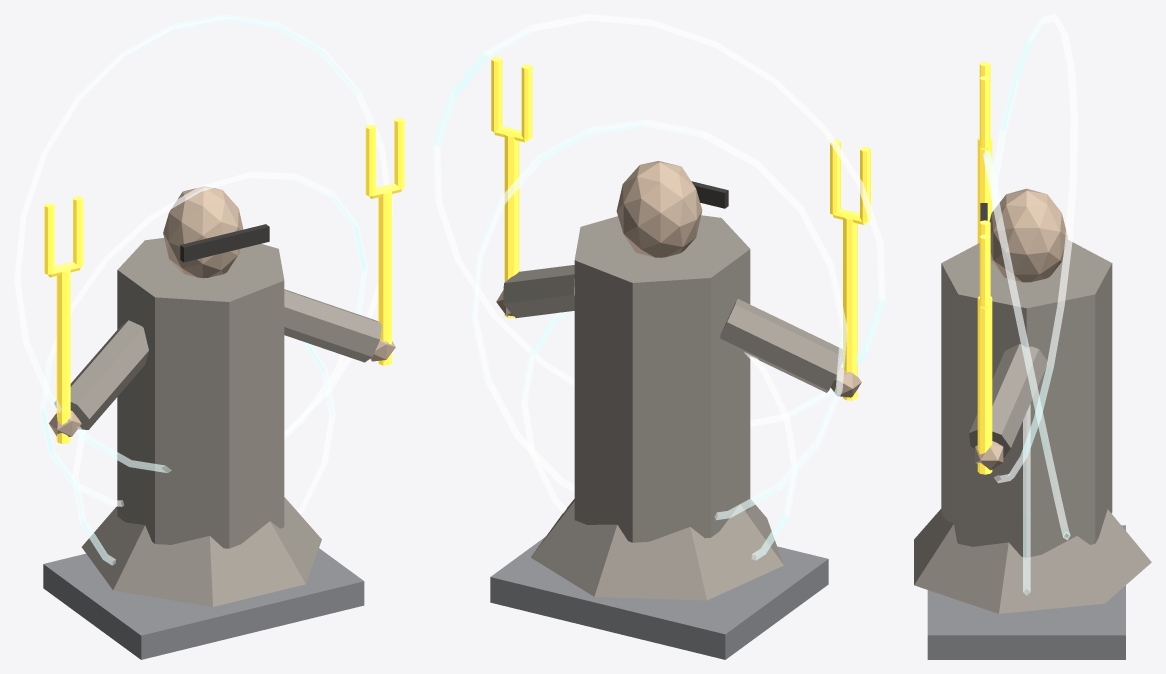
File: chord_weaver.glb
3 views of the same model, side by side, from view 1: azimuth 30°, elevation 25°; view 2: azimuth 150°, elevation 25°; view 3: azimuth 270°, elevation 25° (orthographic). The views are drawn at different scales.
Visible parts, largest first — view 1: weaver_hover_robed_body, resonant_peak_stone_plinth, weaver_tapered_robe_lower, weaver_soundwave_ring_high, weaver_soundwave_ring_mid, weaver_bald_head, weaver_left_sleeve, weaver_right_sleeve, left_tuning_fork_handle, weaver_soundwave_ring_low, right_tuning_fork_handle, weaver_black_blindfold (+4 smaller); view 2: weaver_hover_robed_body, resonant_peak_stone_plinth, weaver_tapered_robe_lower, weaver_soundwave_ring_mid, weaver_soundwave_ring_high, weaver_bald_head, weaver_left_sleeve, weaver_soundwave_ring_low, weaver_right_sleeve, left_tuning_fork_handle, right_tuning_fork_handle, right_tuning_fork_tine_a (+4 smaller); view 3: weaver_hover_robed_body, weaver_tapered_robe_lower, resonant_peak_stone_plinth, weaver_bald_head, weaver_soundwave_ring_high, weaver_right_sleeve, weaver_soundwave_ring_mid, right_tuning_fork_handle, weaver_soundwave_ring_low, left_tuning_fork_handle, right_tuning_fork_tine_b, left_tuning_fork_tine_b (+1 smaller).
Part boxes in pixels (bbox=[...]): weaver_hover_robed_body: bbox=[117, 238, 284, 548]; resonant_peak_stone_plinth: bbox=[43, 548, 364, 659]; weaver_tapered_robe_lower: bbox=[81, 497, 321, 606]; weaver_soundwave_ring_high: bbox=[14, 14, 393, 472]; weaver_soundwave_ring_mid: bbox=[40, 171, 367, 506]; weaver_bald_head: bbox=[163, 186, 243, 278]; weaver_left_sleeve: bbox=[54, 320, 148, 429]; weaver_right_sleeve: bbox=[284, 289, 381, 362]; left_tuning_fork_handle: bbox=[56, 270, 70, 443]; weaver_soundwave_ring_low: bbox=[72, 341, 335, 565]; right_tuning_fork_handle: bbox=[378, 191, 391, 365]; weaver_black_blindfold: bbox=[180, 224, 269, 262]; weaver_hover_robed_body: bbox=[574, 215, 750, 542]; resonant_peak_stone_plinth: bbox=[490, 536, 828, 659]; weaver_tapered_robe_lower: bbox=[531, 499, 783, 600]; weaver_soundwave_ring_mid: bbox=[471, 119, 847, 520]; weaver_soundwave_ring_high: bbox=[433, 14, 885, 426]; weaver_bald_head: bbox=[616, 161, 702, 257]; weaver_left_sleeve: bbox=[720, 299, 844, 392]; weaver_soundwave_ring_low: bbox=[520, 311, 797, 560]; weaver_right_sleeve: bbox=[503, 265, 574, 318]; left_tuning_fork_handle: bbox=[843, 217, 857, 400]; right_tuning_fork_handle: bbox=[504, 135, 519, 317]; right_tuning_fork_tine_a: bbox=[521, 64, 532, 139]; weaver_hover_robed_body: bbox=[941, 240, 1112, 557]; weaver_tapered_robe_lower: bbox=[914, 509, 1151, 613]; resonant_peak_stone_plinth: bbox=[927, 525, 1125, 659]; weaver_bald_head: bbox=[989, 188, 1067, 282]; weaver_soundwave_ring_high: bbox=[992, 14, 1077, 483]; weaver_right_sleeve: bbox=[969, 343, 1047, 457]; weaver_soundwave_ring_mid: bbox=[983, 150, 1070, 540]; right_tuning_fork_handle: bbox=[977, 296, 992, 474]; weaver_soundwave_ring_low: bbox=[1023, 404, 1030, 595]; left_tuning_fork_handle: bbox=[977, 137, 992, 243]; right_tuning_fork_tine_b: bbox=[979, 234, 990, 306]; left_tuning_fork_tine_b: bbox=[979, 76, 990, 148].
Size of the model in its own units: 2.25 by 3.01 by 1.14.
